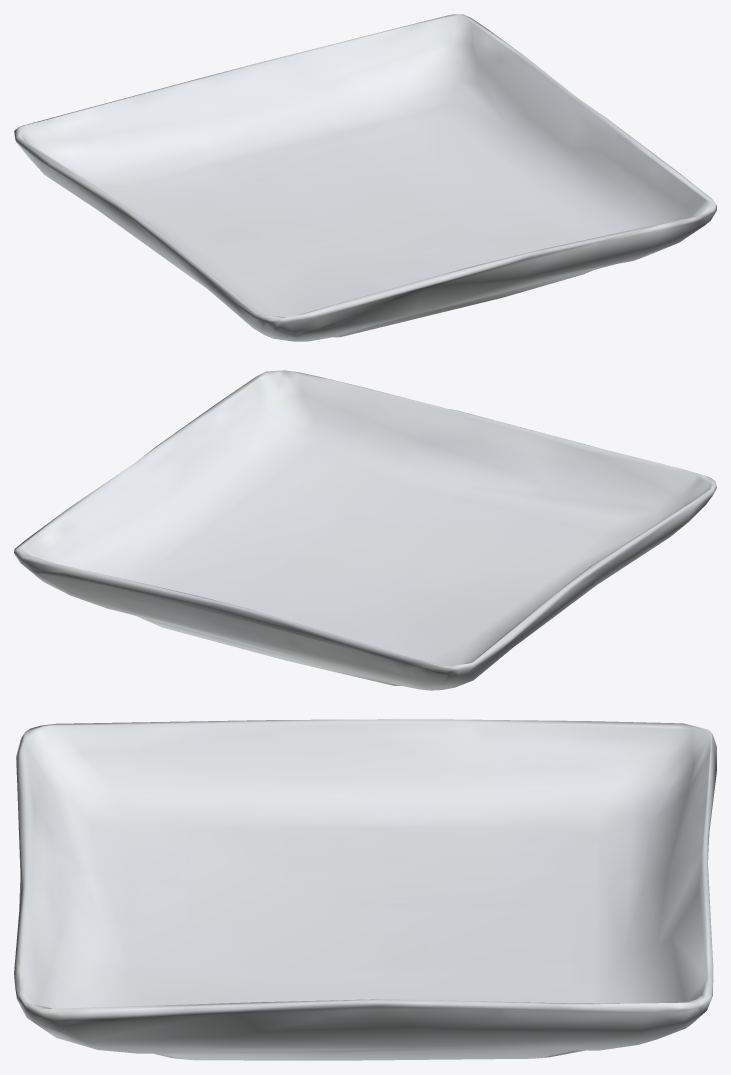
The model's file is Threshold_Salad_Plate_Square_Rim_Porcelain-medium.glb.
3 views of the same model, one above another, from view 1: azimuth 30°, elevation 25°; view 2: azimuth 150°, elevation 25°; view 3: azimuth 270°, elevation 25° (orthographic). The views are drawn at different scales.
Visible parts, largest first — view 1: Threshold_Salad_Plate_Square_Rim_Porcelain; view 2: Threshold_Salad_Plate_Square_Rim_Porcelain; view 3: Threshold_Salad_Plate_Square_Rim_Porcelain.
Boxes of the visible parts, bbox=[...] form: Threshold_Salad_Plate_Square_Rim_Porcelain: bbox=[14, 14, 716, 341]; Threshold_Salad_Plate_Square_Rim_Porcelain: bbox=[14, 370, 716, 690]; Threshold_Salad_Plate_Square_Rim_Porcelain: bbox=[14, 719, 716, 1060].
Size of the model in its own units: 0.2119 by 0.0343 by 0.2123.
Materials: 1 (1 with a texture image).
